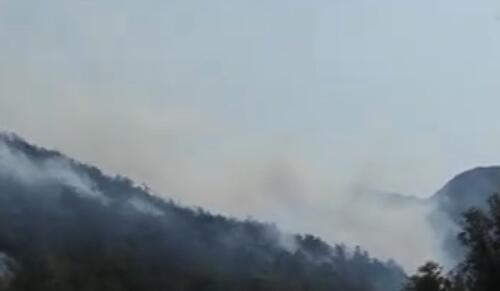yanwu: (1, 65, 445, 271)
